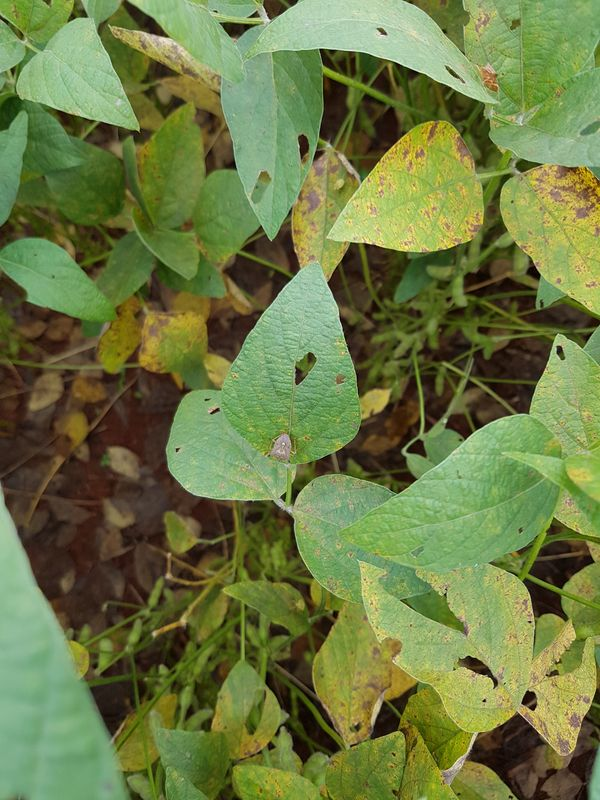Euschistus_heros_adulto: (470, 55, 507, 102), (260, 427, 300, 470)
